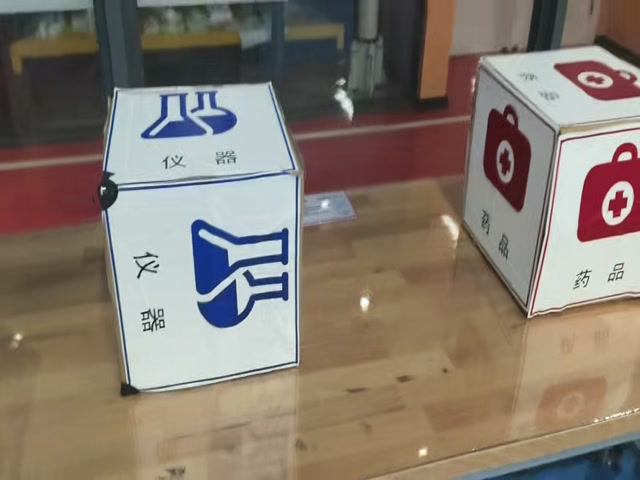Cube_ins: (96, 83, 299, 190)
Cube_medicine: (480, 47, 640, 128)
